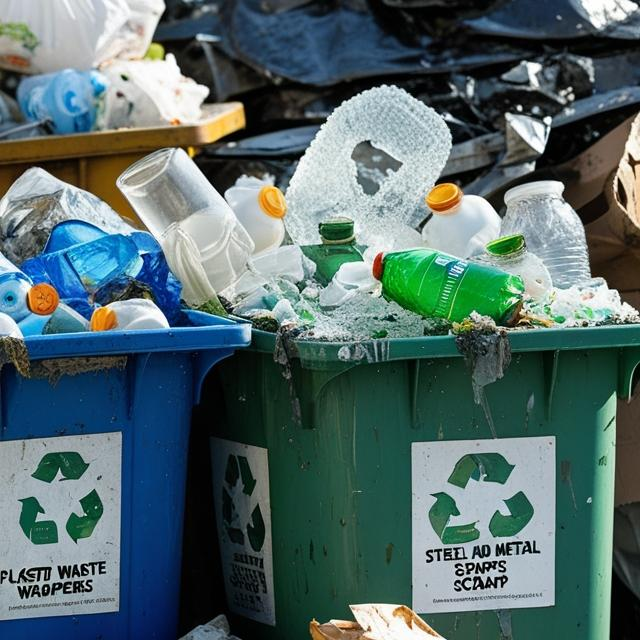plastic: (376, 245, 541, 342), (0, 0, 169, 72)
